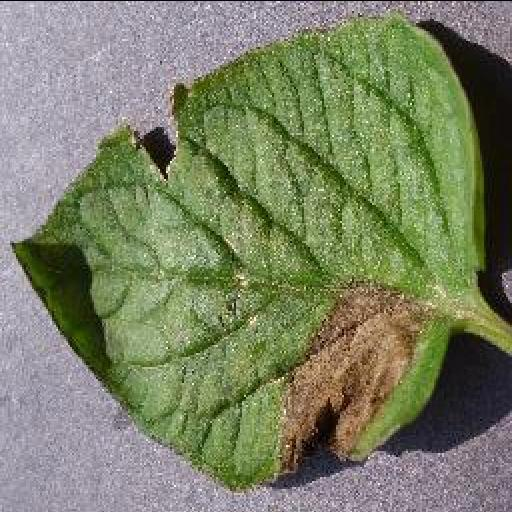disease_tomato: (10, 10, 494, 484)
